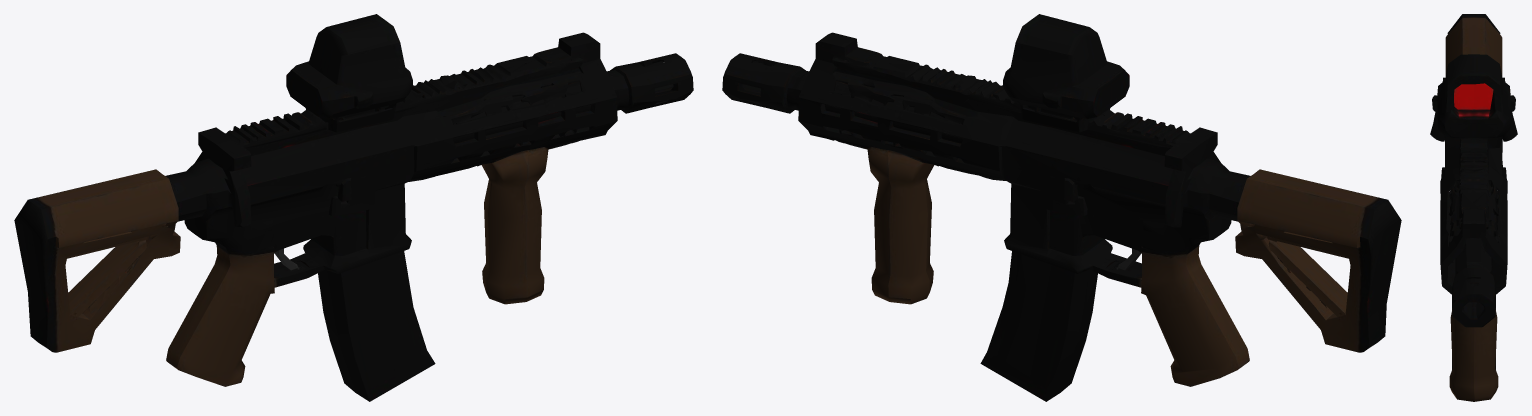
The model's file is modern_tactical_carbine_low.glb.
3 views of the same model, side by side, from view 1: azimuth 30°, elevation 25°; view 2: azimuth 150°, elevation 25°; view 3: azimuth 270°, elevation 25° (orthographic). The views are drawn at different scales.
Parts seen in each view (by area): view 1: world; view 2: world; view 3: world.
Part boxes in pixels (x1,y1,x2,y2): world: (14,14,693,401); world: (722,14,1401,401); world: (1430,14,1517,401).
Size of the model in its own units: 1 by 0.5368 by 0.1355.
Materials: 1 (1 with a texture image).
